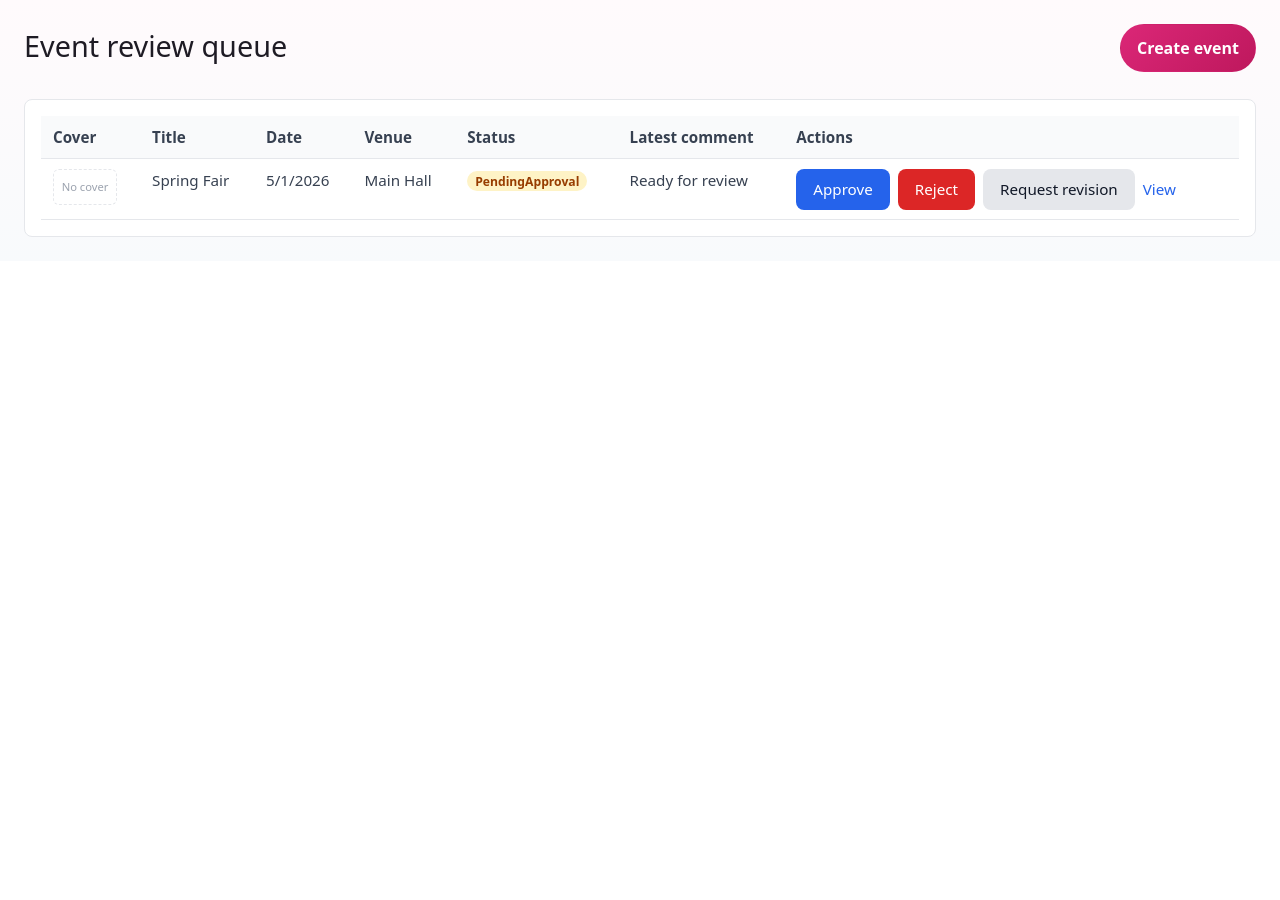
Scenario: ApprovalQueueView › approves via the comment dialog
Click the button with test id "approve-p1" at coordinates (843, 189), box [796,169,890,210]
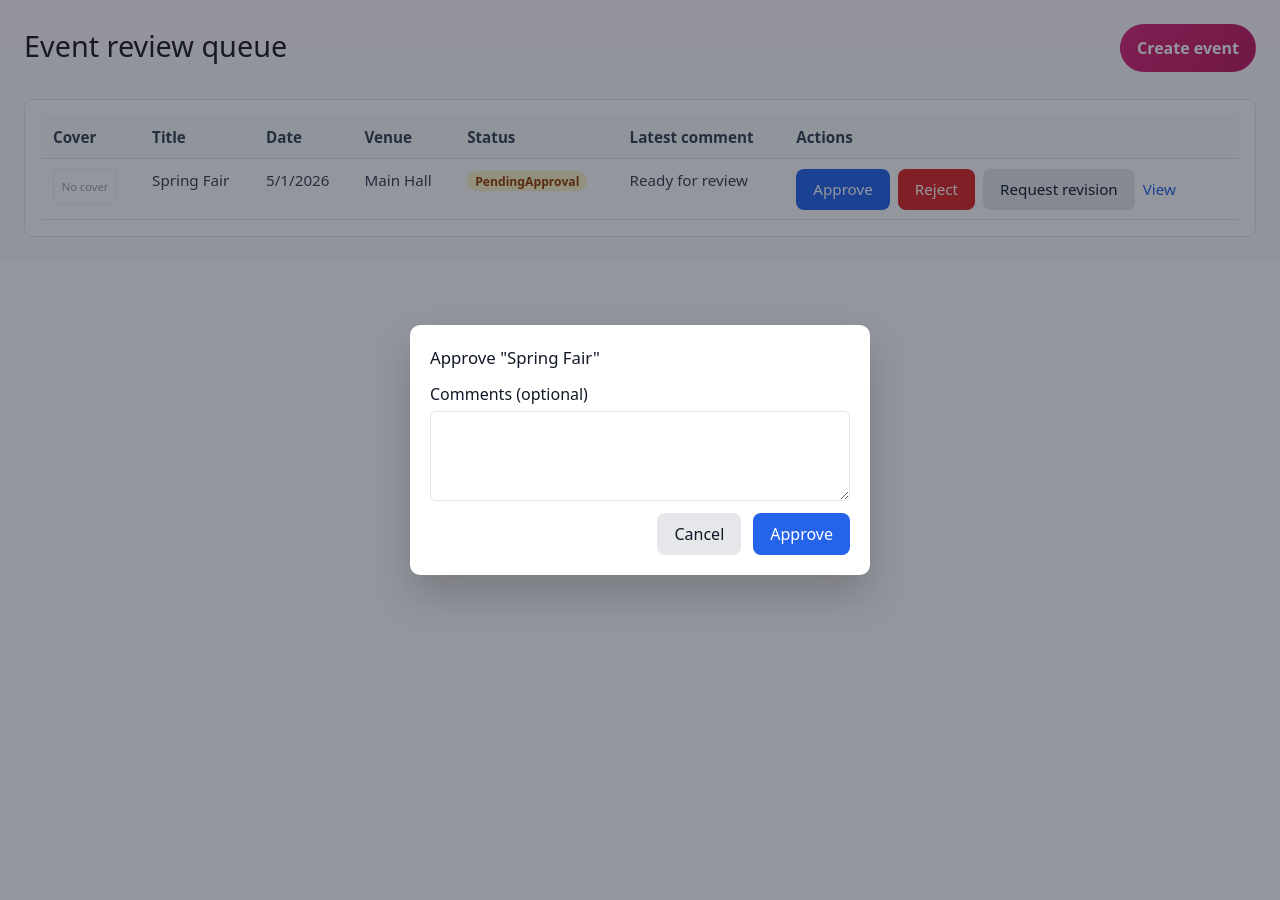
Type "Looks good" into the text box with test id "approval-dialog-input" at coordinates (640, 456), box [430,411,850,501]
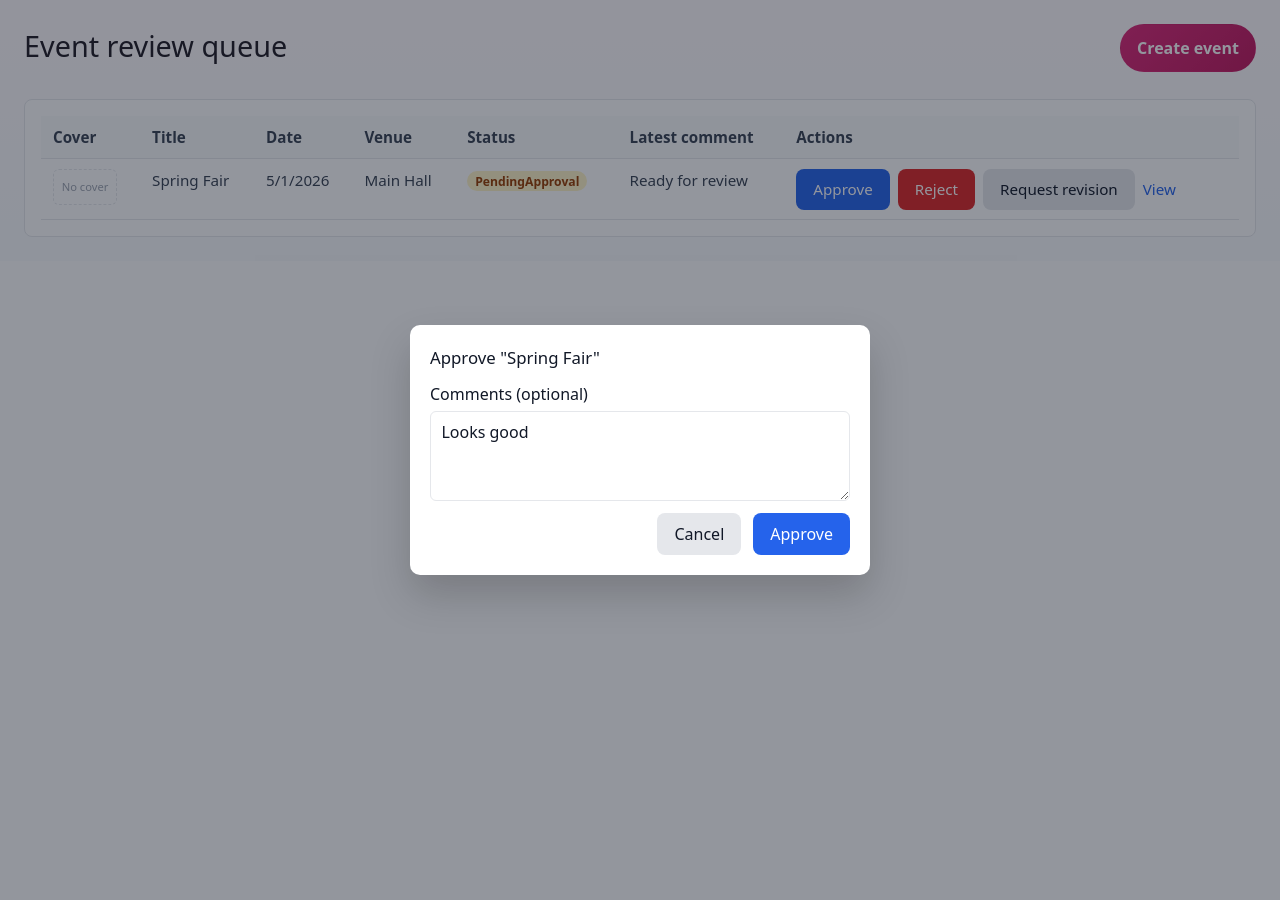
Click the button with test id "approval-dialog-confirm" at coordinates (802, 534), box [753,513,850,555]
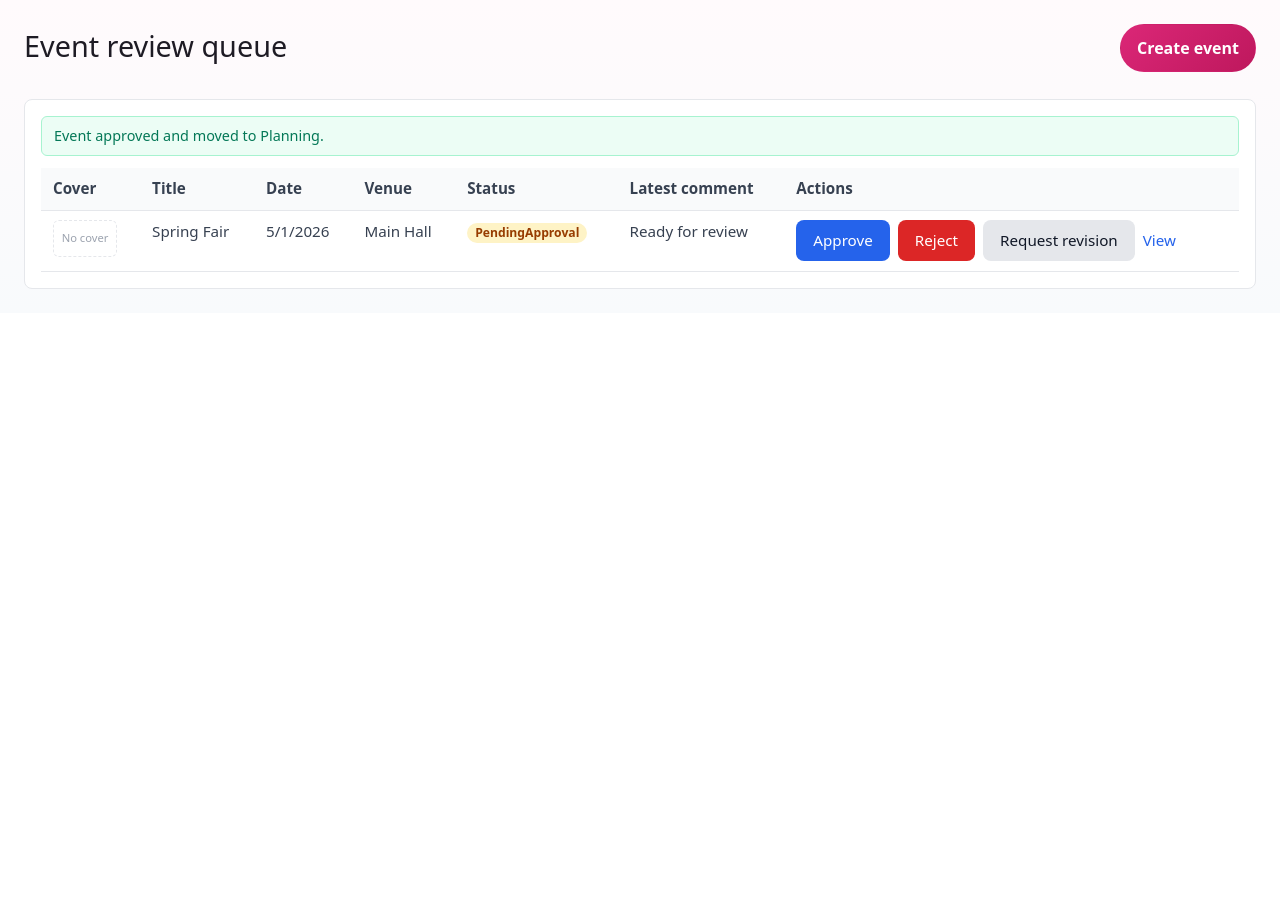
Check: the message with test id "approvals-notice" shows "approved", box [54,126,324,145]
